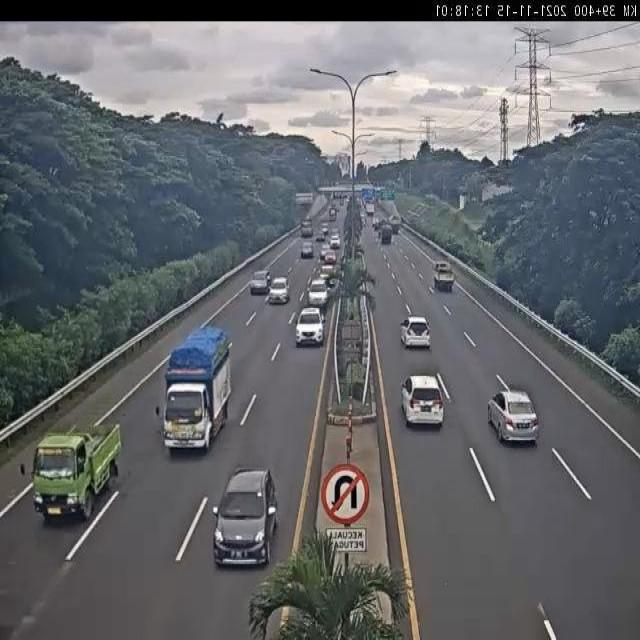Car: (213, 468, 280, 574), (487, 386, 539, 444), (401, 373, 444, 427), (295, 307, 325, 347), (399, 314, 432, 348), (433, 260, 455, 292), (307, 280, 329, 309), (268, 276, 290, 304), (250, 270, 272, 294), (300, 242, 314, 258), (330, 234, 341, 248)
Truck: (157, 329, 234, 458), (32, 422, 121, 521)
